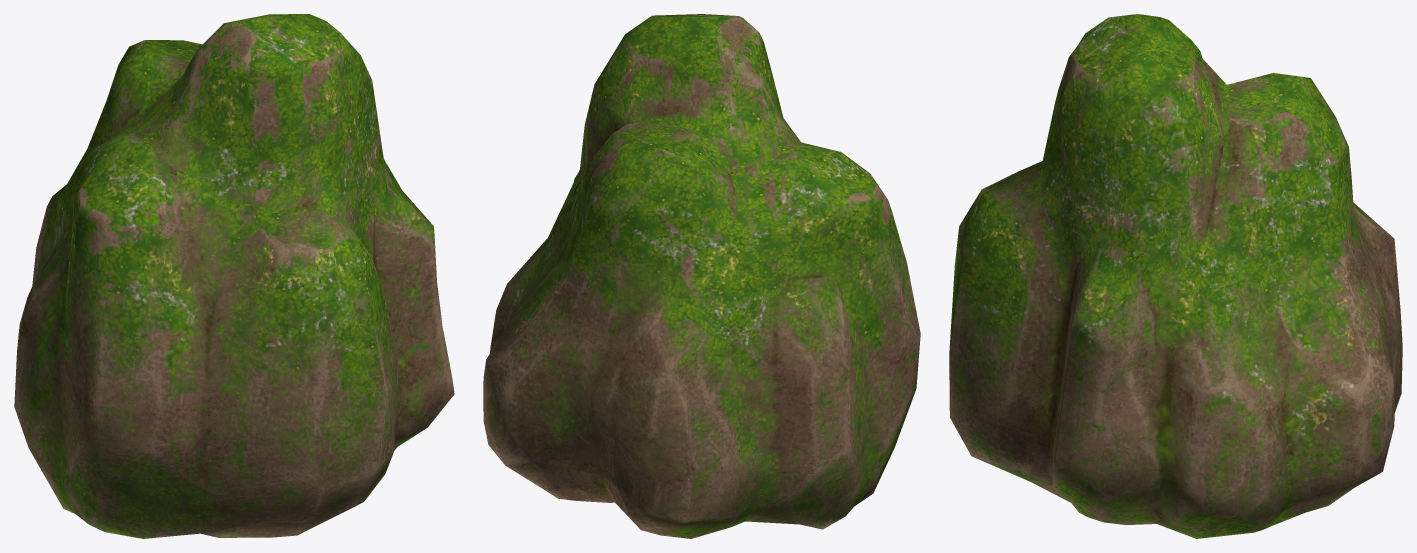
Rendered from sb_obj_nature007_Rock04a.fbx.
3 renders of one model, left to right at view 1: azimuth 30°, elevation 25°; view 2: azimuth 150°, elevation 25°; view 3: azimuth 270°, elevation 25°, orthographic. The views are drawn at different scales.
Parts seen in each view (by area): view 1: sb_obj_nature007_Rock04a; view 2: sb_obj_nature007_Rock04a; view 3: sb_obj_nature007_Rock04a.
Part boxes in pixels (bbox=[...]): sb_obj_nature007_Rock04a: bbox=[14, 14, 454, 538]; sb_obj_nature007_Rock04a: bbox=[483, 14, 920, 538]; sb_obj_nature007_Rock04a: bbox=[949, 14, 1402, 538].
Size of the model in its own units: 2.71 by 3.23 by 2.78.
